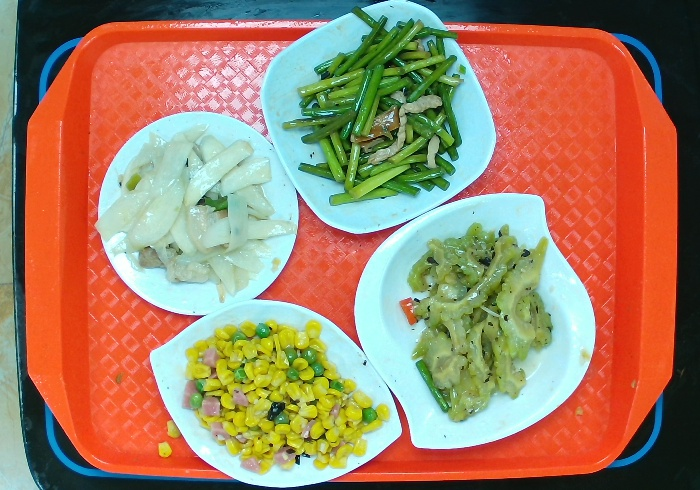RJxy-Da_Du_Pan: (148, 298, 404, 488)
RJxy-Shuang_Jiao_Pan: (353, 190, 599, 450)
RJxy-Si_Fang_Wan: (258, 1, 498, 235)
RJxy-Xiao_Yuan_Die: (96, 109, 301, 317)
